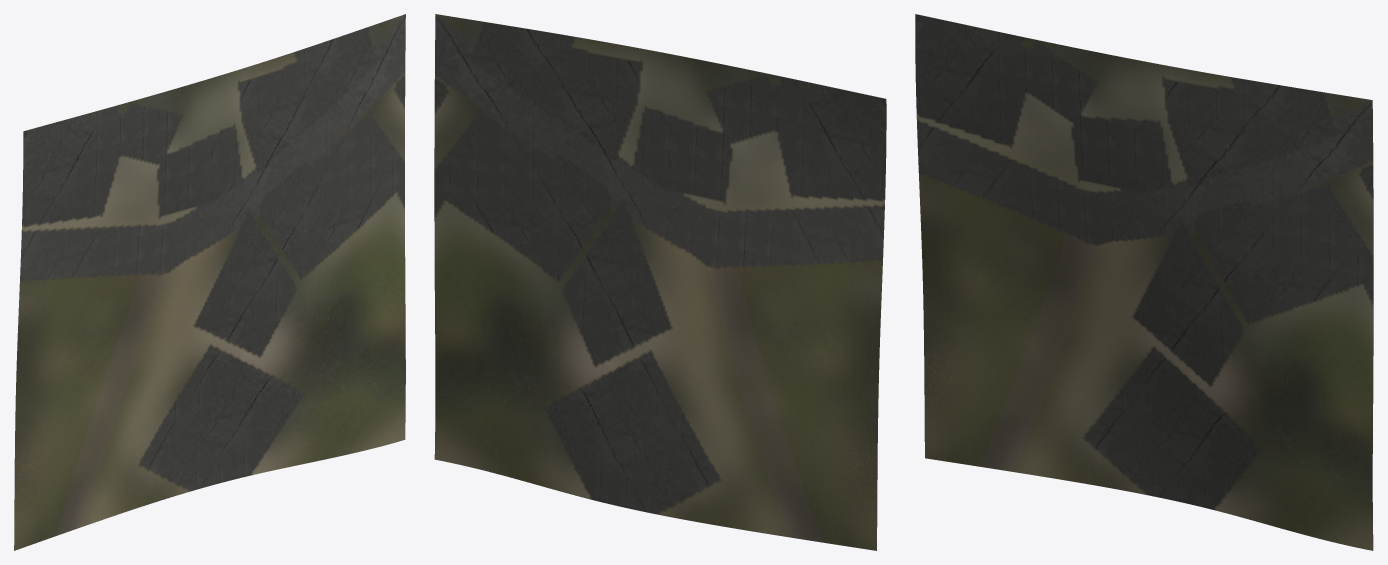
Rendered from ground_core_04_05.obj.
The picture shows the model from 3 angles, left to right: view 1: azimuth 30°, elevation 25°; view 2: azimuth 150°, elevation 25°; view 3: azimuth 330°, elevation 25°; orthographic projection. The views are drawn at different scales.
Parts seen in each view (by area): view 1: ground_core_04_05; view 2: ground_core_04_05; view 3: ground_core_04_05.
Part boxes in pixels (bbox=[...]): ground_core_04_05: bbox=[14, 14, 405, 550]; ground_core_04_05: bbox=[434, 14, 886, 550]; ground_core_04_05: bbox=[915, 14, 1373, 550].
Size of the model in its own units: 50 by 50 by 5.81.
1 material, 1 textured.
